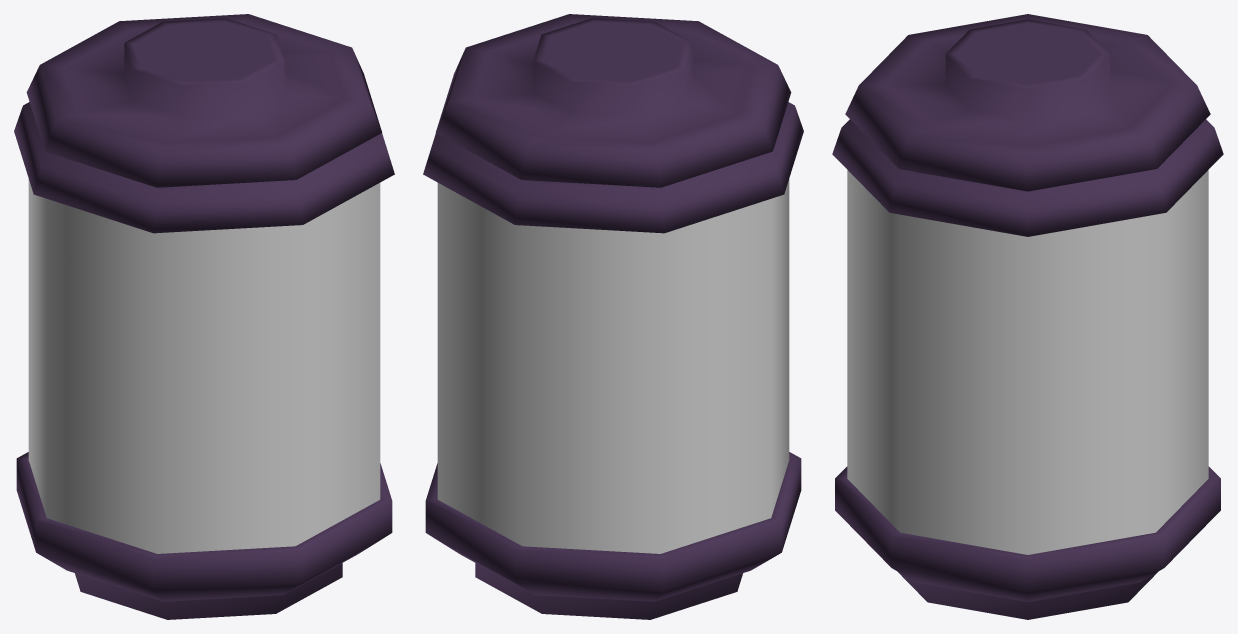
Rendered from EnergyCell.fbx.
3 renders of one model, left to right at view 1: azimuth 30°, elevation 25°; view 2: azimuth 150°, elevation 25°; view 3: azimuth 270°, elevation 25°, orthographic.
Visible parts, largest first — view 1: Cylinder.003, Cylinder.013; view 2: Cylinder.003, Cylinder.013; view 3: Cylinder.003, Cylinder.013.
Part boxes in pixels (left/top/right/bottom): Cylinder.003: left=28, top=179, right=380, bottom=553; Cylinder.013: left=14, top=14, right=394, bottom=619; Cylinder.003: left=437, top=179, right=789, bottom=553; Cylinder.013: left=423, top=14, right=803, bottom=619; Cylinder.003: left=847, top=170, right=1208, bottom=554; Cylinder.013: left=832, top=14, right=1223, bottom=619.
Size of the model in its own units: 304 by 433 by 304.
